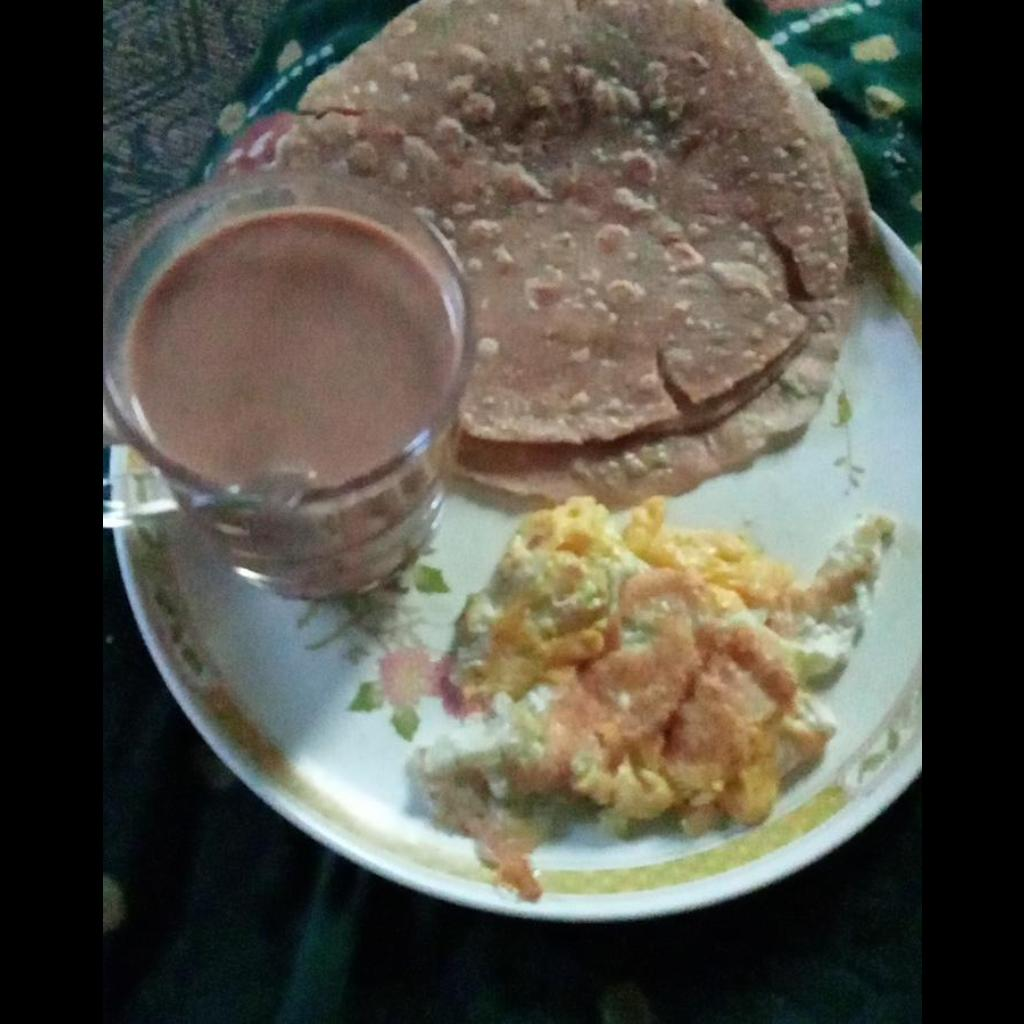cha: (121, 211, 454, 482)
egg: (398, 498, 894, 900)
ruti: (272, 1, 869, 495)
